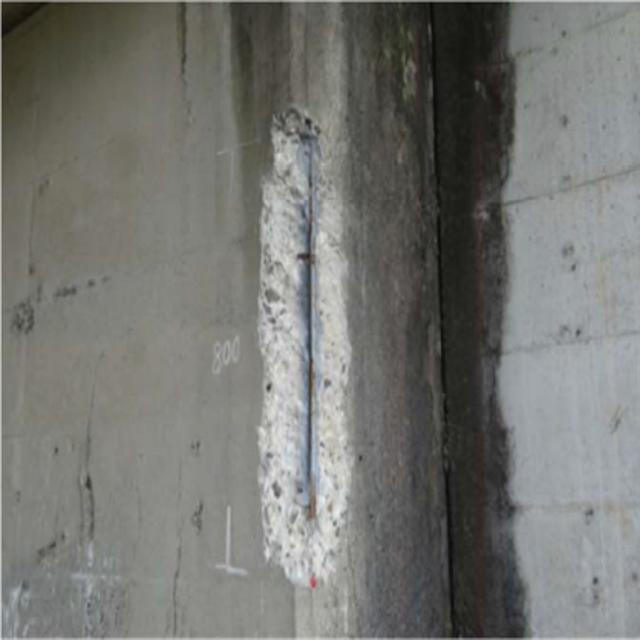spalling: (237, 89, 364, 590)
